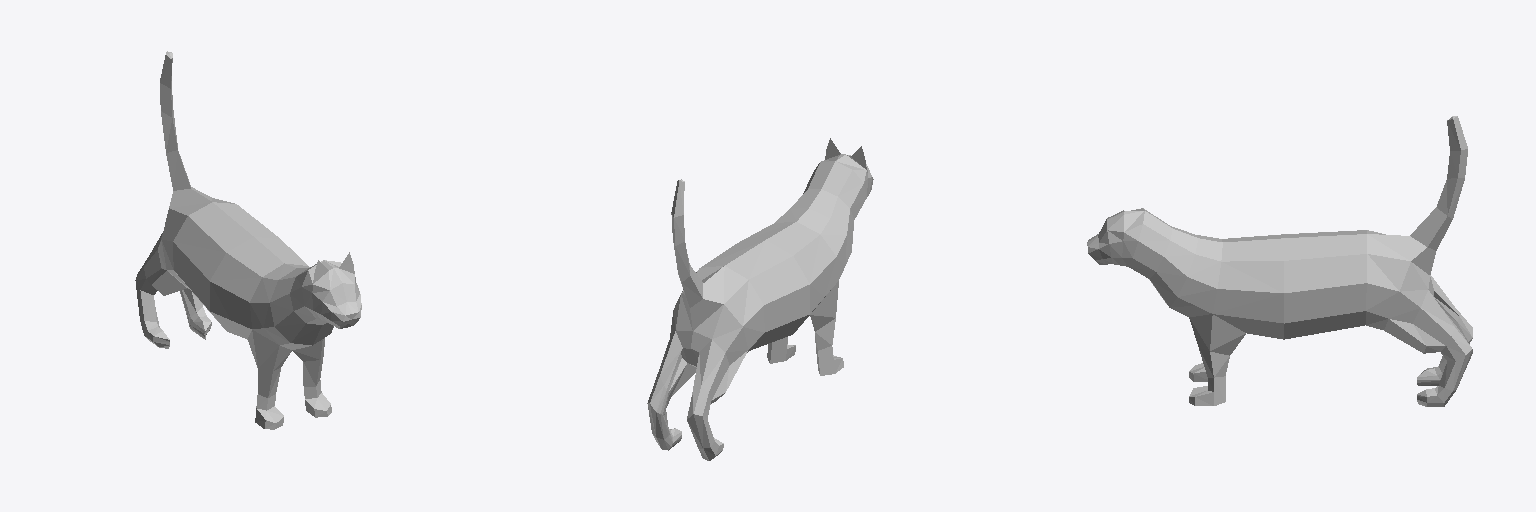
The model's file is cat.obj.
3 views of the same model, side by side, from view 1: azimuth 30°, elevation 25°; view 2: azimuth 150°, elevation 25°; view 3: azimuth 270°, elevation 25° (orthographic).
Visible parts, largest first — view 1: Cylinder; view 2: Cylinder; view 3: Cylinder.
Boxes of the visible parts, x1,y1,x2,y2 form: Cylinder: [135, 51, 361, 429]; Cylinder: [647, 138, 873, 460]; Cylinder: [1087, 116, 1472, 406].
Size of the model in its own units: 2.13 by 6.43 by 8.04.